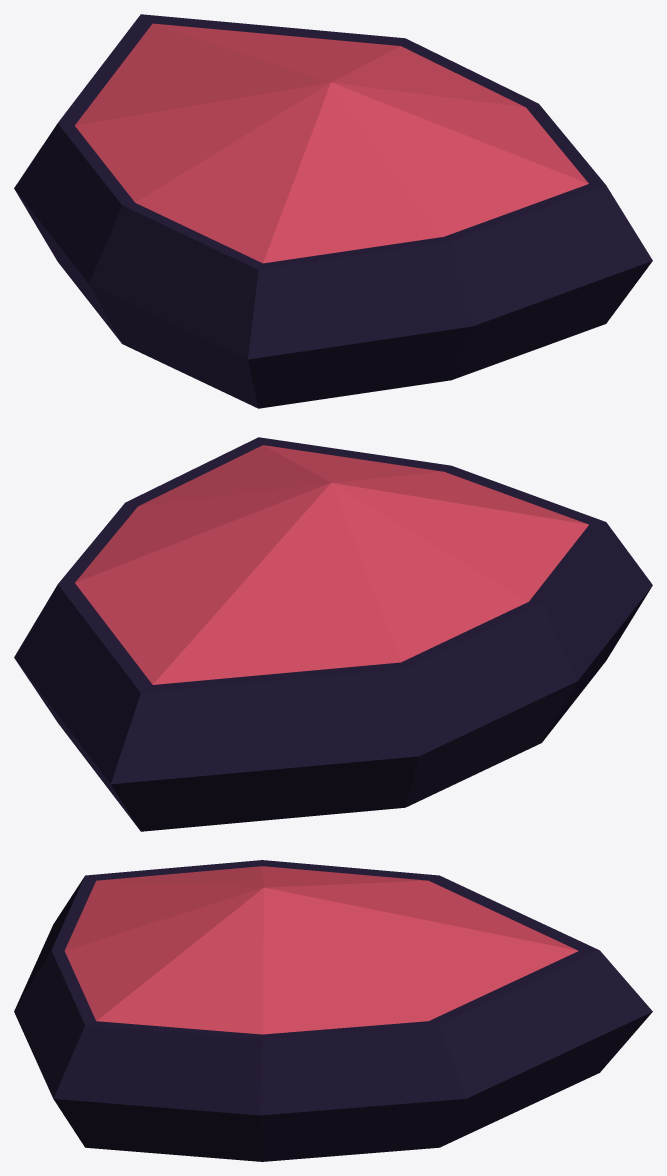
The picture shows the model from 3 angles, top to bottom: view 1: azimuth 30°, elevation 25°; view 2: azimuth 150°, elevation 25°; view 3: azimuth 270°, elevation 25°; orthographic projection. The views are drawn at different scales.
Parts seen in each view (by area): view 1: Cube_001, Cube; view 2: Cube_001, Cube; view 3: Cube_001, Cube.
Part boxes in pixels (x1,y1,x2,y2): Cube_001: [14, 14, 652, 408]; Cube: [75, 23, 588, 263]; Cube_001: [14, 437, 652, 831]; Cube: [75, 445, 588, 684]; Cube_001: [14, 860, 652, 1161]; Cube: [64, 866, 578, 1034].
Size of what is drawn, in the model's own units: 5.41 by 6.98 by 2.49.
